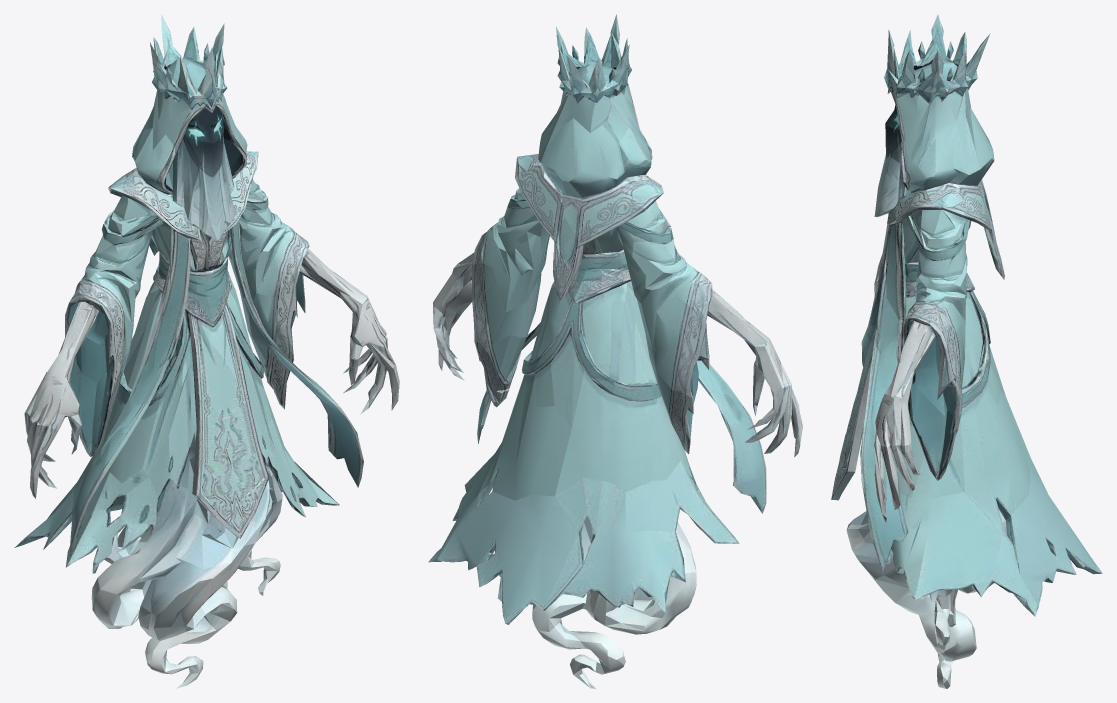
Rendered from queen.glb.
3 views of the same model, side by side, from view 1: azimuth 30°, elevation 25°; view 2: azimuth 150°, elevation 25°; view 3: azimuth 270°, elevation 25° (orthographic).
Visible parts, largest first — view 1: mesh_node; view 2: mesh_node; view 3: mesh_node.
Part boxes in pixels (bbox=[...]): mesh_node: bbox=[14, 14, 399, 688]; mesh_node: bbox=[428, 14, 802, 688]; mesh_node: bbox=[831, 14, 1102, 688].
Bounding box in the file's own units: 1.1 × 1.9 × 0.7065.
Materials: 1 (1 with a texture image).
